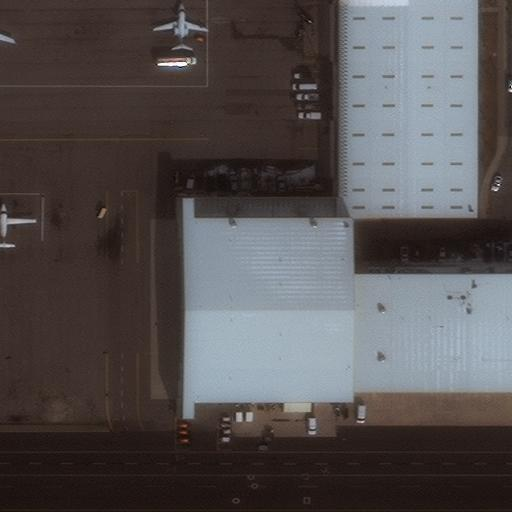Medium Civil Transport: (0, 203, 35, 248)
Small Civil Transport: (152, 2, 207, 49)
